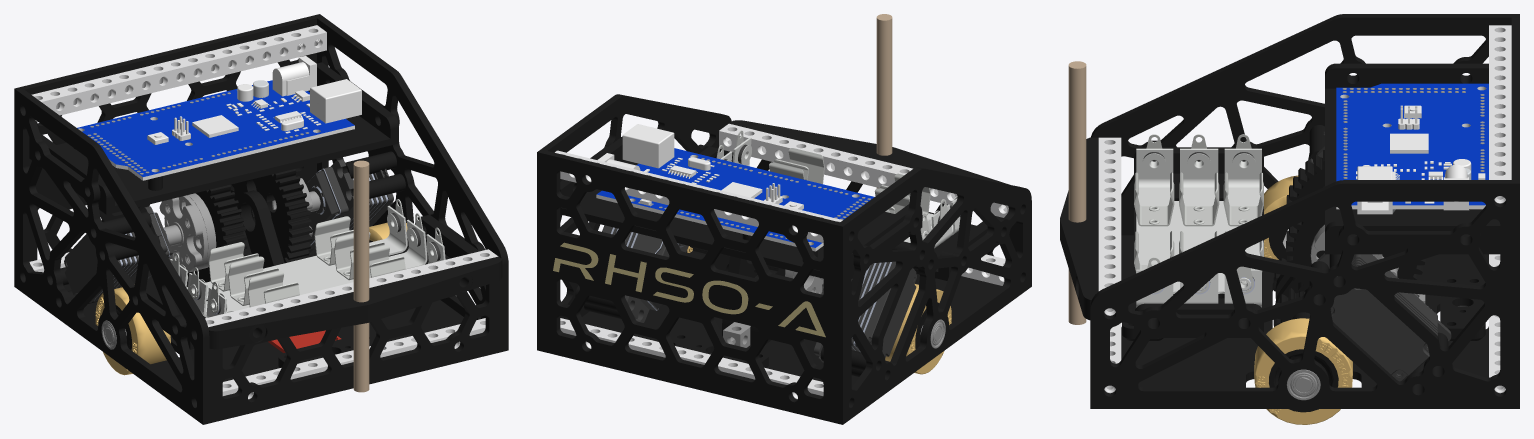
The model's file is geared.glb.
3 renders of one model, left to right at view 1: azimuth 30°, elevation 25°; view 2: azimuth 150°, elevation 25°; view 3: azimuth 270°, elevation 25°, orthographic. The views are drawn at different scales.
Visible parts, largest first — view 1: anim_rtg_50_Frame_1, anim_rtg_2_Arduino_Mega_1, anim_rtg_3_193_3DModel_STEP_630548_1, anim_rtg_6_1106_0017_0136_2, anim_rtg_27_Spur_Gear_40_teeth_1, anim_rtg_49_1_4_dowel_10cm_length_2, anim_rtg_8_1106_0017_0136_4, anim_rtg_10_DDJ_STDLOW2_M2H_CNC_1, anim_rtg_45_3217_2701_2501_assembly_v2_Mirror_1__0, anim_rtg_7_1106_0017_0136_3, anim_rtg_46_Spur_Gear_40_teeth_Mirror_1, anim_rtg_42_Wheel_T61P_14NBN_v2_Mirror_1 (+6 smaller); view 2: anim_rtg_50_Frame_1, anim_rtg_2_Arduino_Mega_1, anim_rtg_8_1106_0017_0136_4, anim_rtg_3_193_3DModel_STEP_630548_1, anim_rtg_5_1106_0017_0136_1, anim_rtg_49_1_4_dowel_10cm_length_2, anim_rtg_6_1106_0017_0136_2, anim_rtg_30_DDJ_STDLOW2_B_CNC_Mirror_1, anim_rtg_10_DDJ_STDLOW2_M2H_CNC_1, anim_rtg_29_DDJ_STDLOW2_M2H_CNC_Mirror_1, anim_rtg_42_Wheel_T61P_14NBN_v2_Mirror_1, anim_rtg_7_1106_0017_0136_3 (+1 smaller); view 3: anim_rtg_50_Frame_1, anim_rtg_2_Arduino_Mega_1, anim_rtg_3_193_3DModel_STEP_630548_1, anim_rtg_11_DDJ_STDLOW2_B_CNC_1, anim_rtg_24_Wheel_T61P_14NBN_1, anim_rtg_8_1106_0017_0136_4, anim_rtg_6_1106_0017_0136_2, anim_rtg_49_1_4_dowel_10cm_length_2, anim_rtg_27_Spur_Gear_40_teeth_1, anim_rtg_10_DDJ_STDLOW2_M2H_CNC_1, anim_rtg_42_Wheel_T61P_14NBN_v2_Mirror_1, anim_rtg_46_Spur_Gear_40_teeth_Mirror_1 (+5 smaller).
Boxes of the visible parts, x1=… form: anim_rtg_50_Frame_1: x1=14, y1=14, x2=508, y2=424; anim_rtg_2_Arduino_Mega_1: x1=77, y1=56, x2=361, y2=180; anim_rtg_3_193_3DModel_STEP_630548_1: x1=170, y1=199, x2=445, y2=317; anim_rtg_6_1106_0017_0136_2: x1=31, y1=25, x2=326, y2=121; anim_rtg_27_Spur_Gear_40_teeth_1: x1=231, y1=169, x2=312, y2=263; anim_rtg_49_1_4_dowel_10cm_length_2: x1=353, y1=160, x2=369, y2=392; anim_rtg_8_1106_0017_0136_4: x1=205, y1=249, x2=498, y2=327; anim_rtg_10_DDJ_STDLOW2_M2H_CNC_1: x1=306, y1=159, x2=391, y2=253; anim_rtg_45_3217_2701_2501_assembly_v2_Mirror_1__0: x1=159, y1=195, x2=208, y2=272; anim_rtg_7_1106_0017_0136_3: x1=222, y1=318, x2=485, y2=399; anim_rtg_46_Spur_Gear_40_teeth_Mirror_1: x1=187, y1=185, x2=247, y2=282; anim_rtg_42_Wheel_T61P_14NBN_v2_Mirror_1: x1=95, y1=287, x2=170, y2=375; anim_rtg_50_Frame_1: x1=537, y1=94, x2=1031, y2=424; anim_rtg_2_Arduino_Mega_1: x1=596, y1=124, x2=874, y2=251; anim_rtg_8_1106_0017_0136_4: x1=719, y1=123, x2=1008, y2=217; anim_rtg_3_193_3DModel_STEP_630548_1: x1=716, y1=130, x2=960, y2=248; anim_rtg_5_1106_0017_0136_1: x1=560, y1=318, x2=823, y2=399; anim_rtg_49_1_4_dowel_10cm_length_2: x1=876, y1=14, x2=892, y2=188; anim_rtg_6_1106_0017_0136_2: x1=555, y1=150, x2=842, y2=242; anim_rtg_30_DDJ_STDLOW2_B_CNC_Mirror_1: x1=866, y1=262, x2=916, y2=358; anim_rtg_10_DDJ_STDLOW2_M2H_CNC_1: x1=607, y1=226, x2=688, y2=322; anim_rtg_29_DDJ_STDLOW2_M2H_CNC_Mirror_1: x1=814, y1=261, x2=895, y2=362; anim_rtg_42_Wheel_T61P_14NBN_v2_Mirror_1: x1=885, y1=284, x2=951, y2=374; anim_rtg_7_1106_0017_0136_3: x1=961, y1=254, x2=1005, y2=285; anim_rtg_50_Frame_1: x1=1060, y1=14, x2=1519, y2=408; anim_rtg_2_Arduino_Mega_1: x1=1336, y1=83, x2=1488, y2=214; anim_rtg_3_193_3DModel_STEP_630548_1: x1=1134, y1=134, x2=1263, y2=307; anim_rtg_11_DDJ_STDLOW2_B_CNC_1: x1=1330, y1=288, x2=1429, y2=381; anim_rtg_24_Wheel_T61P_14NBN_1: x1=1254, y1=318, x2=1352, y2=424; anim_rtg_8_1106_0017_0136_4: x1=1098, y1=137, x2=1121, y2=315; anim_rtg_6_1106_0017_0136_2: x1=1489, y1=25, x2=1511, y2=203; anim_rtg_49_1_4_dowel_10cm_length_2: x1=1068, y1=61, x2=1086, y2=324; anim_rtg_27_Spur_Gear_40_teeth_1: x1=1286, y1=186, x2=1425, y2=291; anim_rtg_10_DDJ_STDLOW2_M2H_CNC_1: x1=1310, y1=253, x2=1451, y2=374; anim_rtg_42_Wheel_T61P_14NBN_v2_Mirror_1: x1=1264, y1=175, x2=1298, y2=260; anim_rtg_46_Spur_Gear_40_teeth_Mirror_1: x1=1286, y1=149, x2=1324, y2=228.
Bounding box in the file's own units: 0.1424 × 0.1092 × 0.1627.
